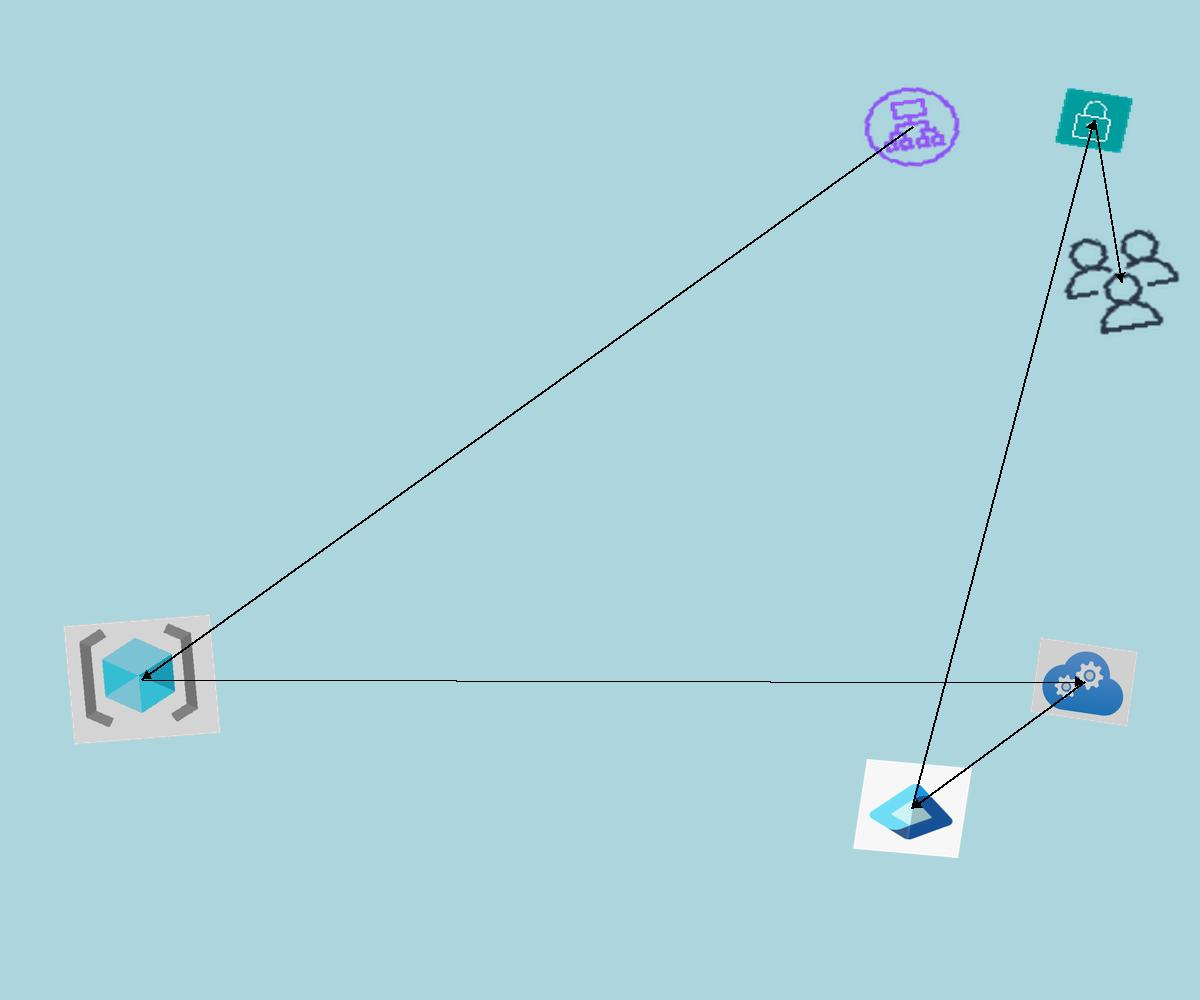AWS-Private-subnet: (1054, 87, 1134, 154)
AWS-Res_Elastic-Load-Balancing_Application-Load-Balancer: (852, 77, 972, 177)
AWS-Res_Users: (1046, 219, 1197, 345)
Azure_cloud_services: (1030, 637, 1138, 727)
Azure_microsoft_entra: (853, 759, 972, 858)
Azure_resource_group: (63, 614, 221, 745)
